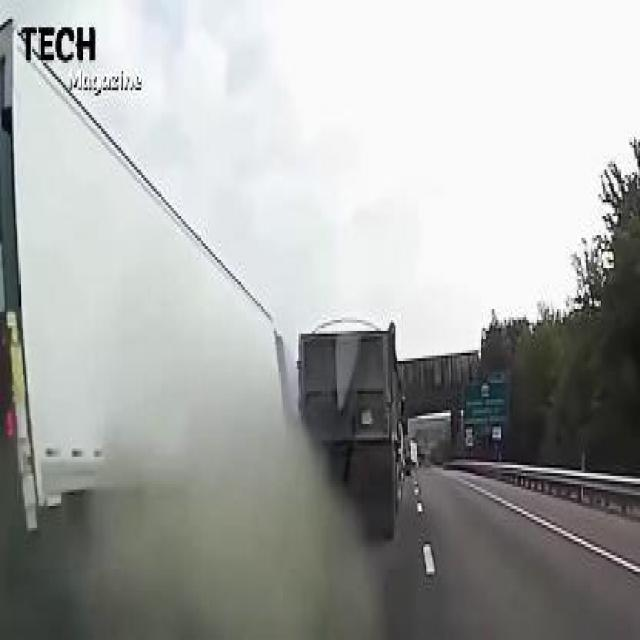accident: (0, 0, 411, 637)
